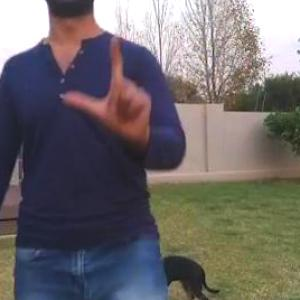land_hand: (61, 31, 154, 136)
